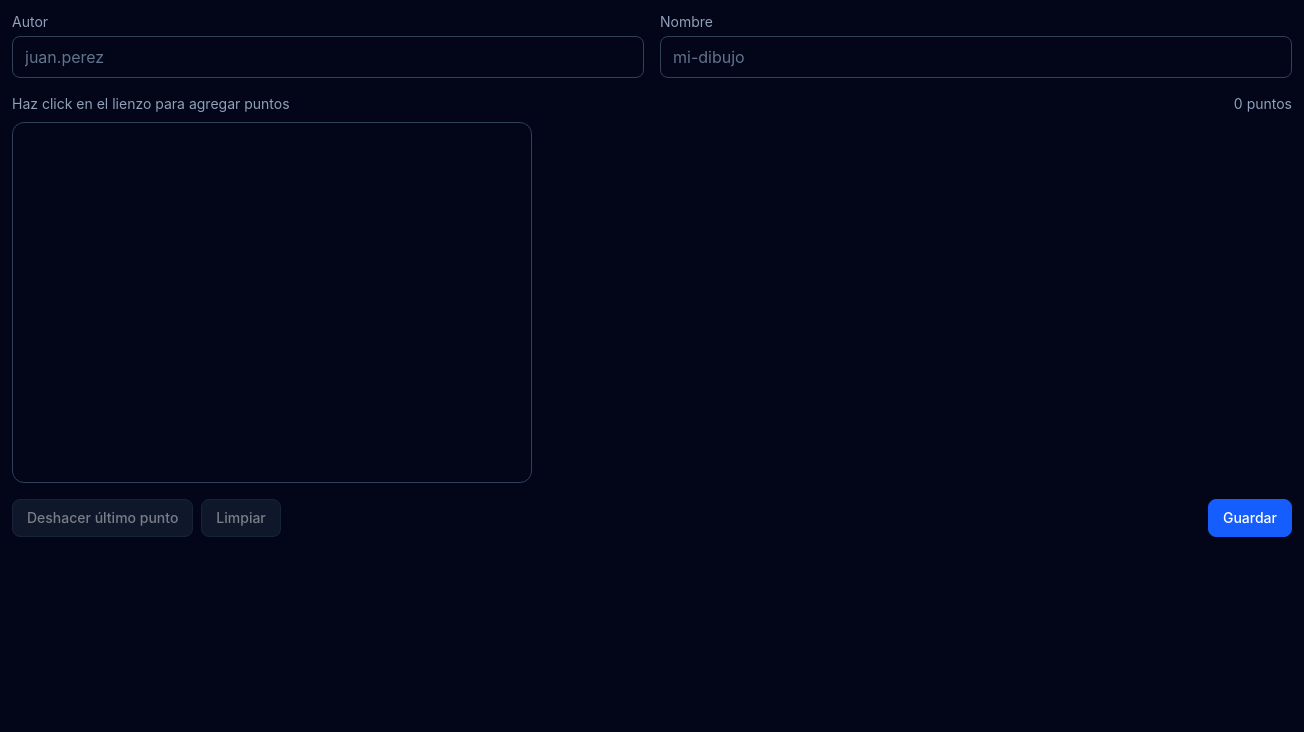
Test: BlueprintForm › no envía si no hay puntos y muestra el error
This screenshot has width=1304, height=732.
In the field labelled "Autor": (328, 57) [12,36,644,78], type "john"
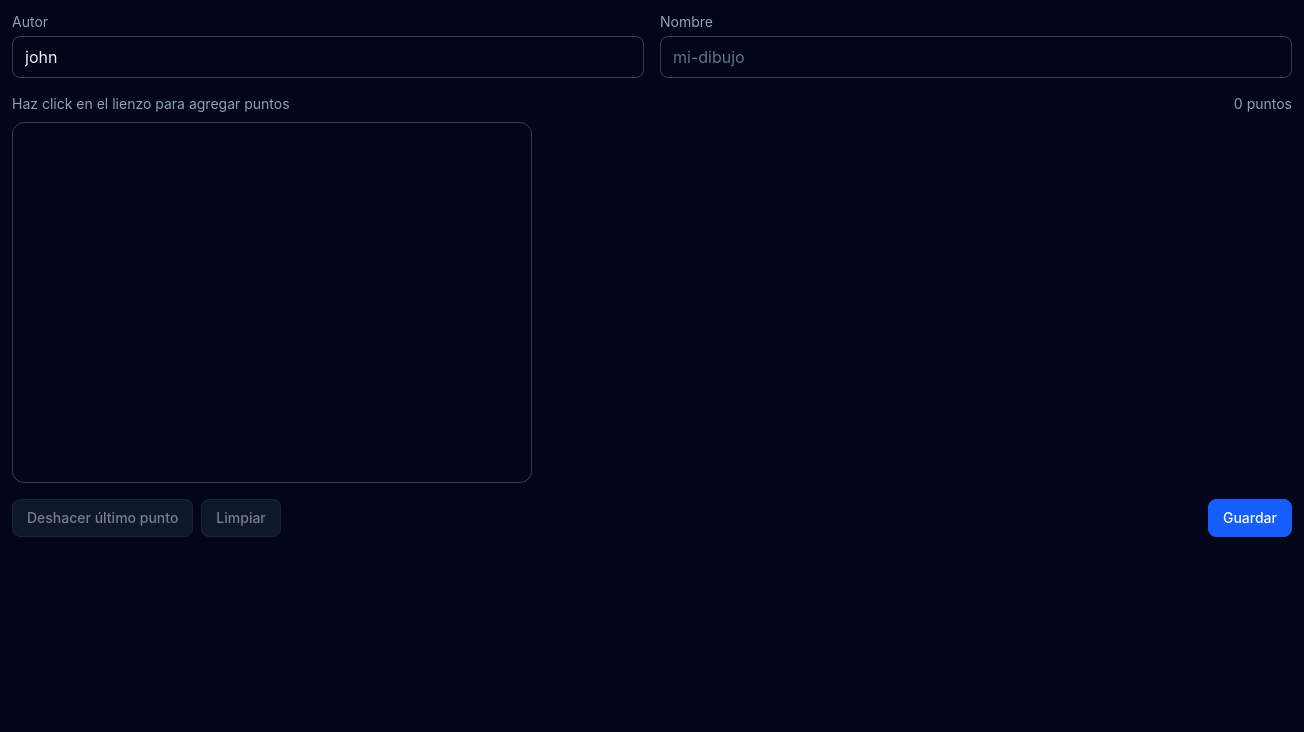
In the field labelled "Nombre": (976, 57) [660,36,1292,78], type "house"
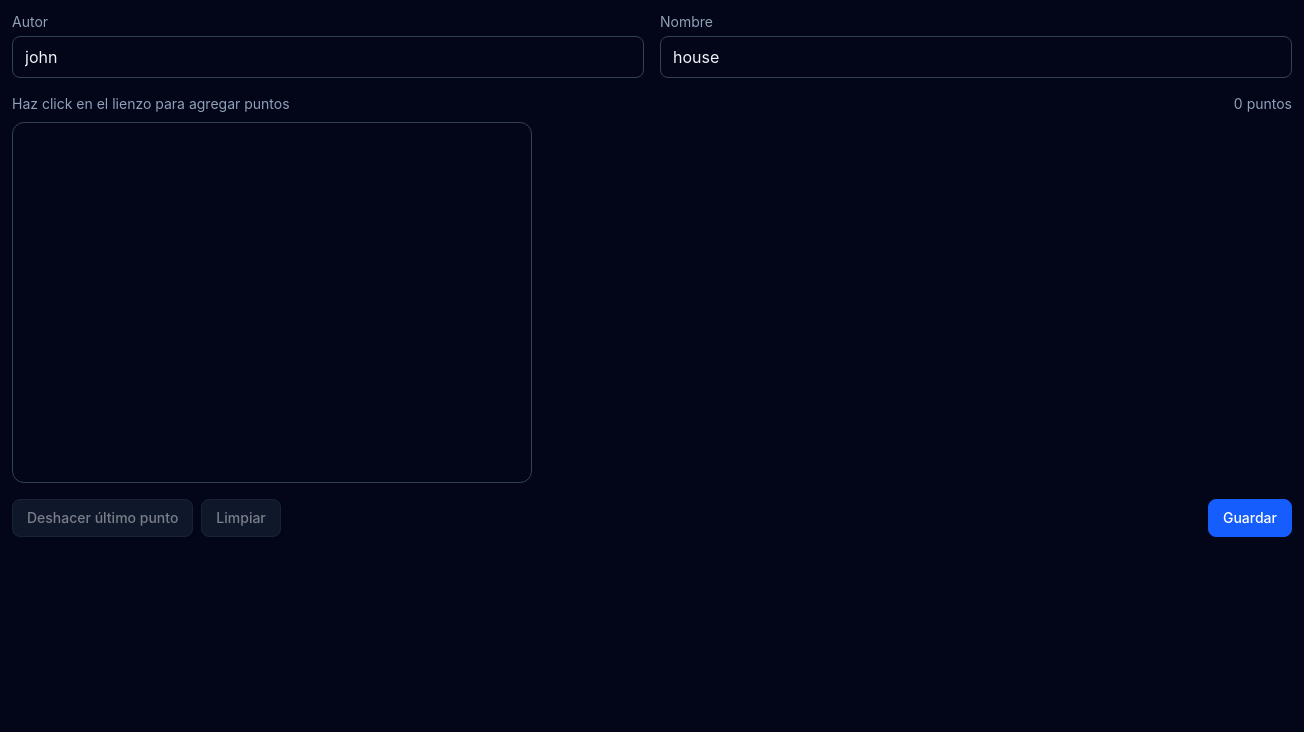
Click the button "Guardar": (1250, 518) [1208,499,1292,537]
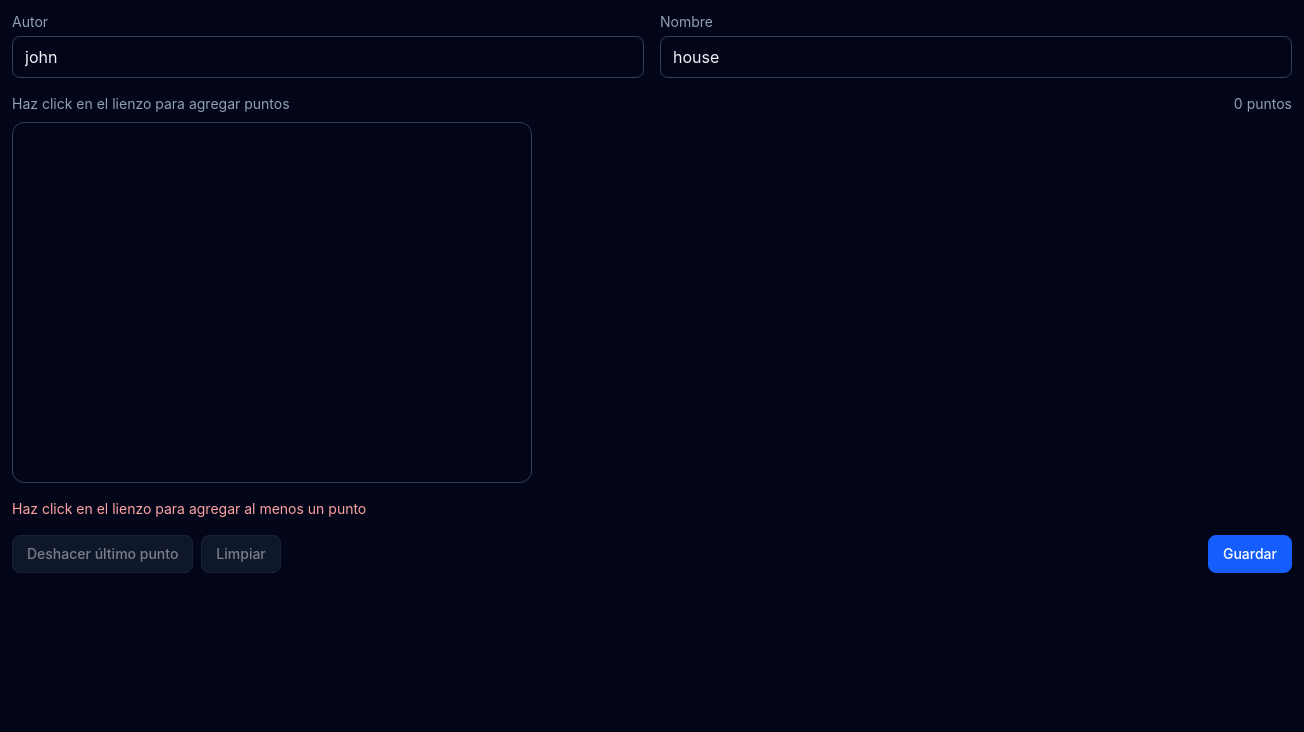
Check: the message shows "al menos un punto", box [12,500,366,517]
